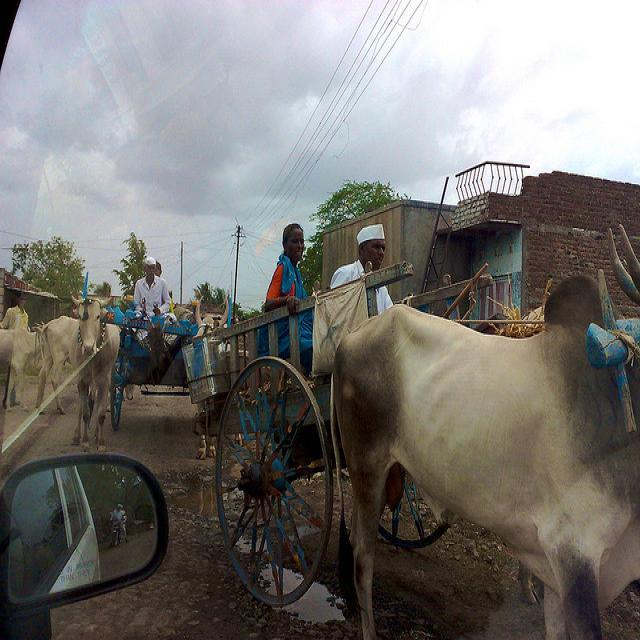cow: (328, 273, 639, 639), (67, 292, 120, 449), (33, 315, 77, 415), (0, 325, 39, 412), (193, 294, 227, 334)
